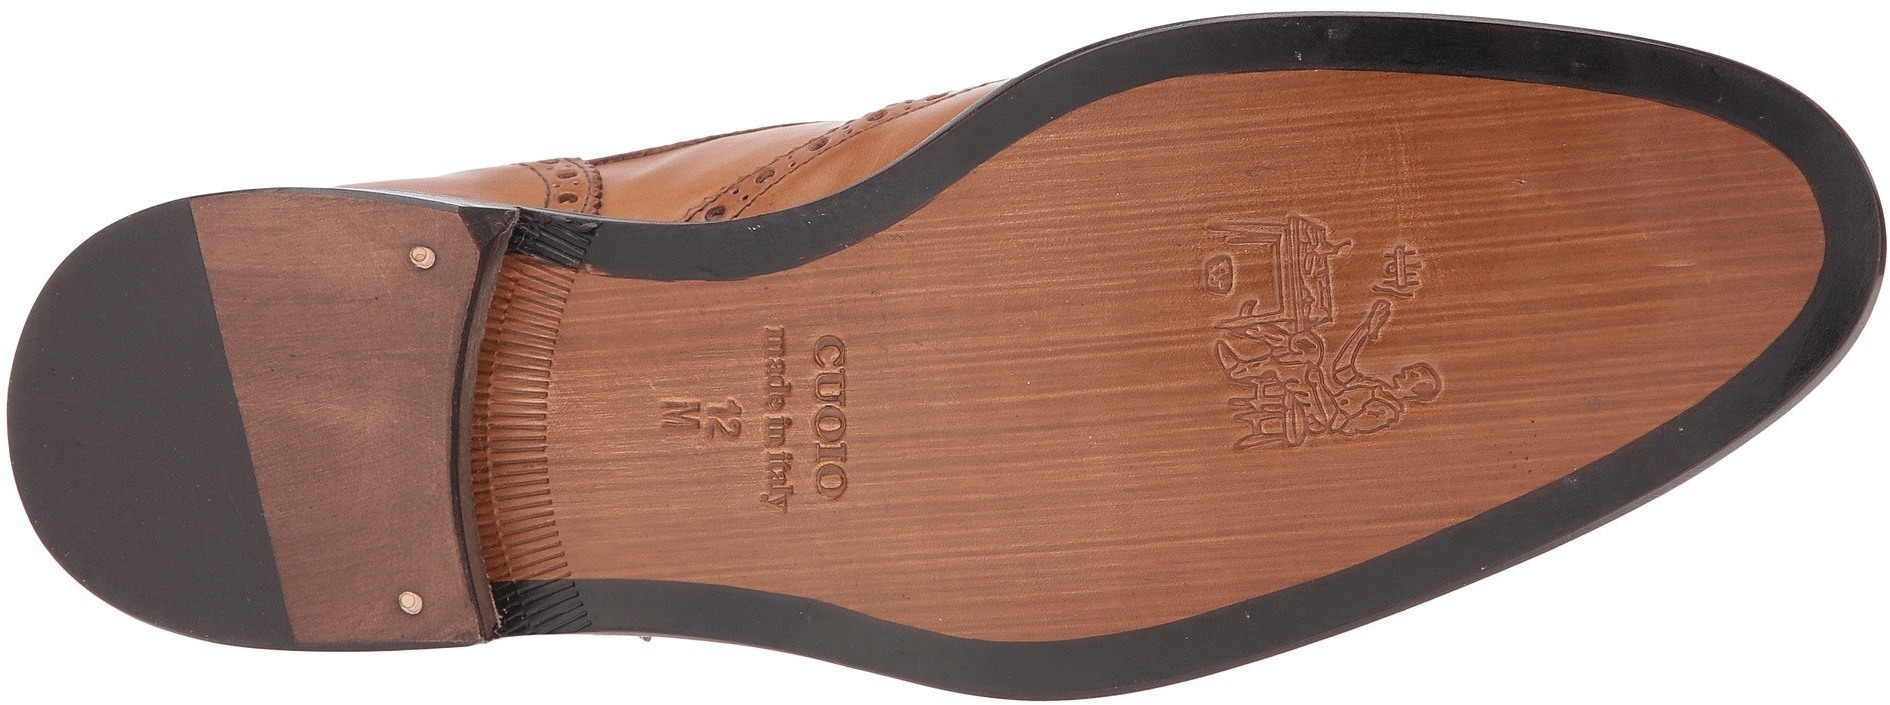circle: (393, 233, 453, 284)
exclude: (450, 190, 852, 666), (246, 0, 1047, 224)
other: (900, 325, 1203, 605), (1176, 198, 1463, 463), (1438, 114, 1715, 381), (33, 353, 243, 545), (237, 354, 438, 544), (981, 149, 1182, 337)
text: (802, 406, 891, 504), (803, 331, 874, 409)
